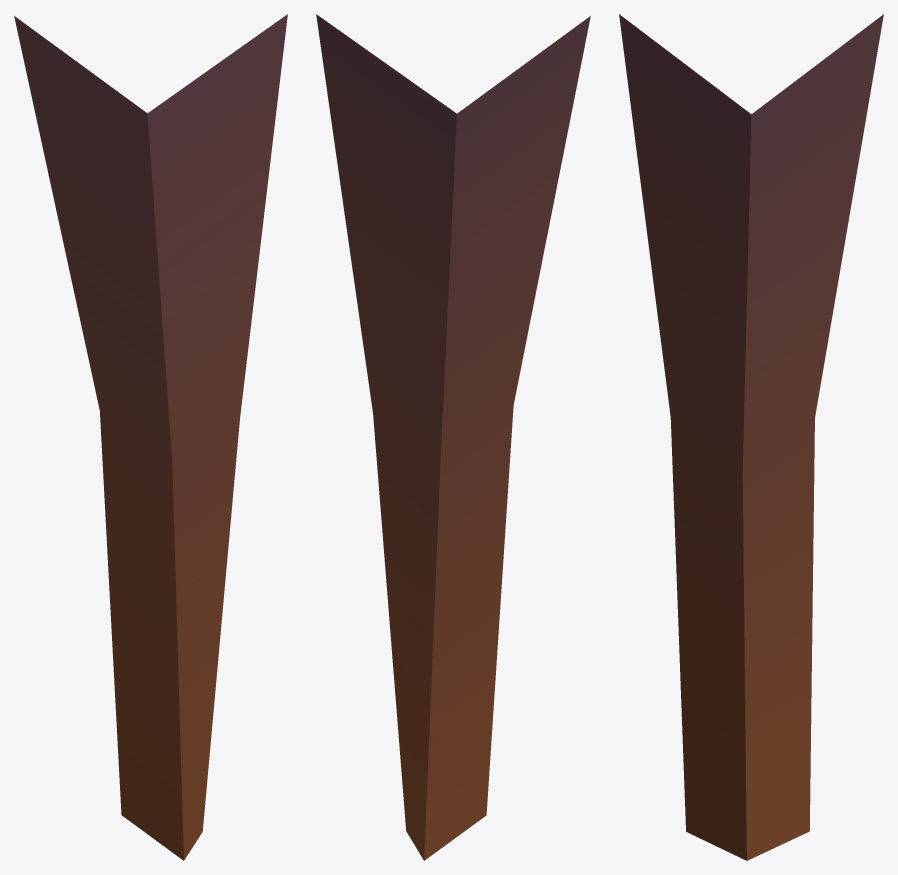
File: Stalactite001.glb
The picture shows the model from 3 angles, left to right: view 1: azimuth 30°, elevation 25°; view 2: azimuth 150°, elevation 25°; view 3: azimuth 270°, elevation 25°; orthographic projection.
Visible parts, largest first — view 1: Stalactite001; view 2: Stalactite001; view 3: Stalactite001.
Part boxes in pixels (bbox=[...]): Stalactite001: bbox=[14, 14, 287, 860]; Stalactite001: bbox=[316, 14, 590, 860]; Stalactite001: bbox=[619, 14, 883, 860].
Bounding box in the file's own units: 161 × 592 × 180.
Materials: 1 (1 with a texture image).
